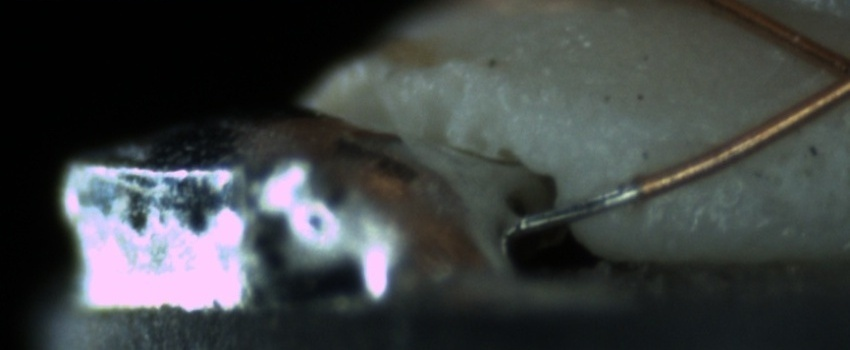CL: (803, 36, 850, 110)
TS: (515, 183, 643, 233)
